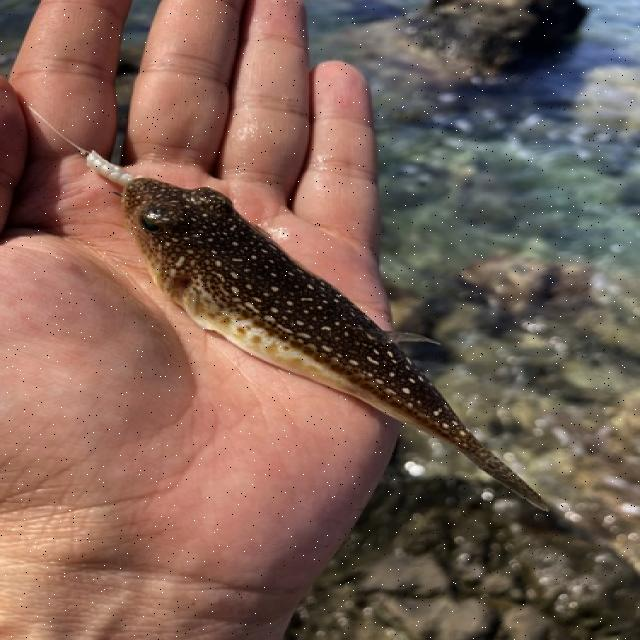Balik: (57, 132, 547, 510)
